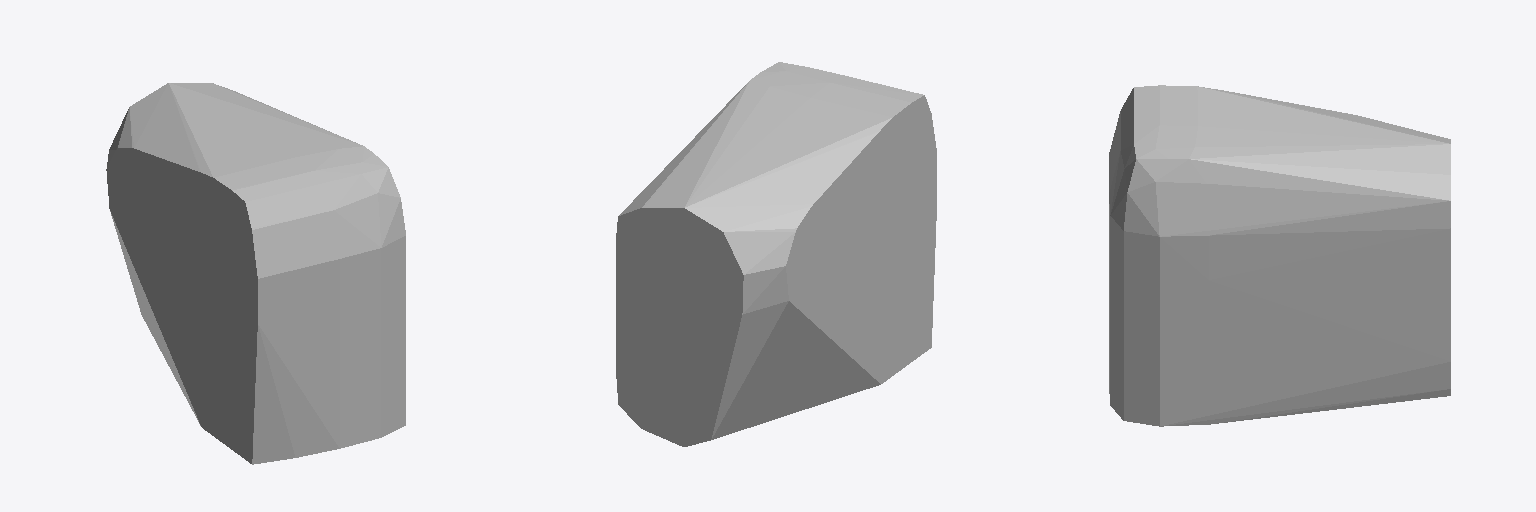
File: table_collision_7.obj
3 renders of one model, left to right at view 1: azimuth 30°, elevation 25°; view 2: azimuth 150°, elevation 25°; view 3: azimuth 270°, elevation 25°, orthographic.
Size of the model in its own units: 0.0645 by 0.0954 by 0.1141.